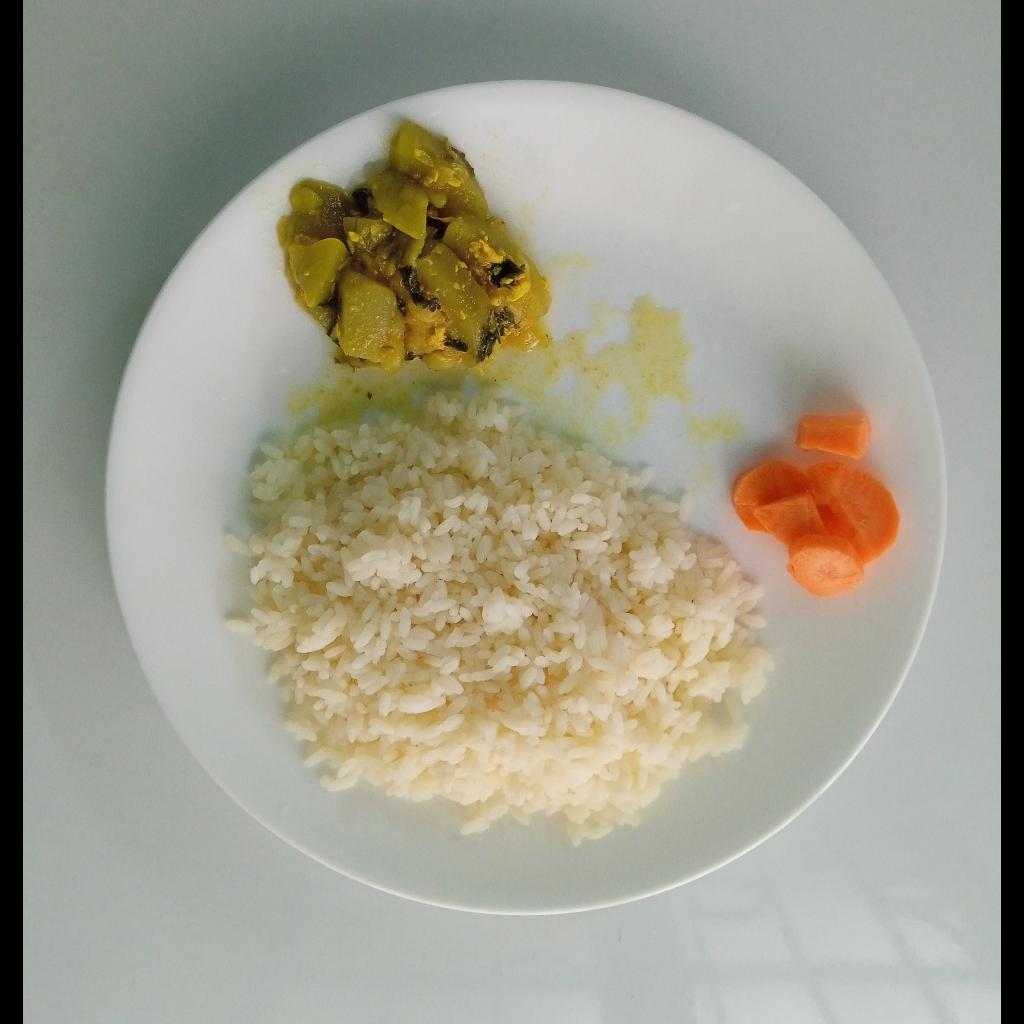carrot: (731, 415, 901, 599)
lau: (278, 120, 554, 370)
rice: (244, 388, 777, 831)
